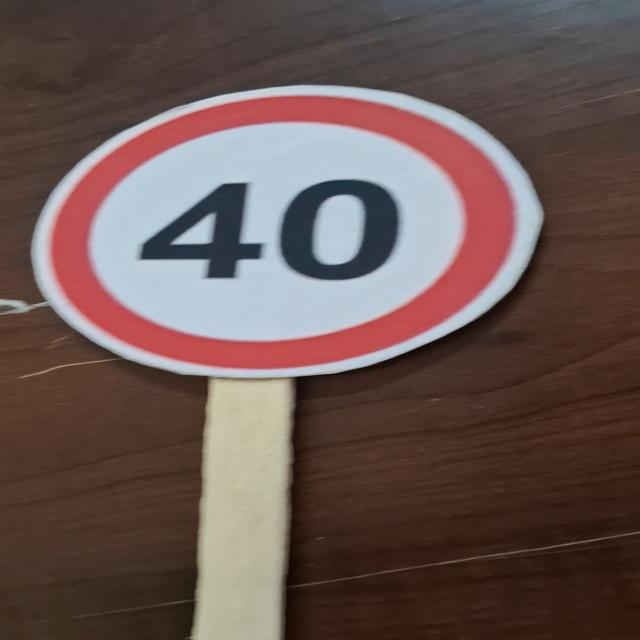Speed40: (27, 80, 548, 383)
